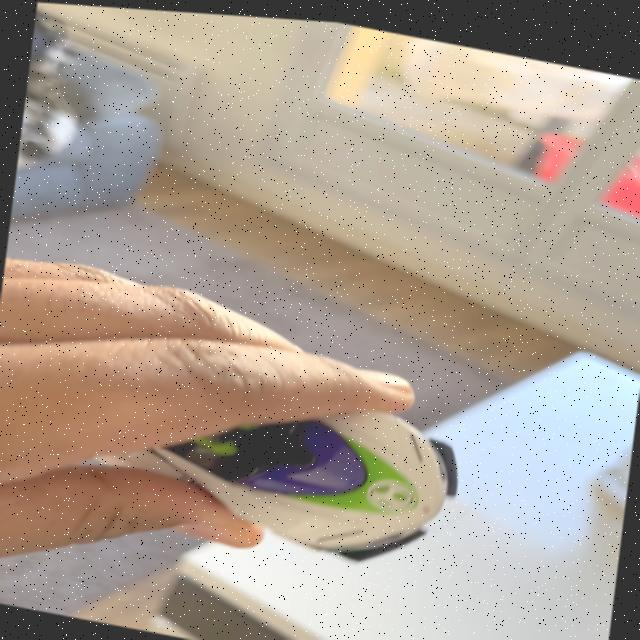yoshi: (171, 356, 477, 591)
